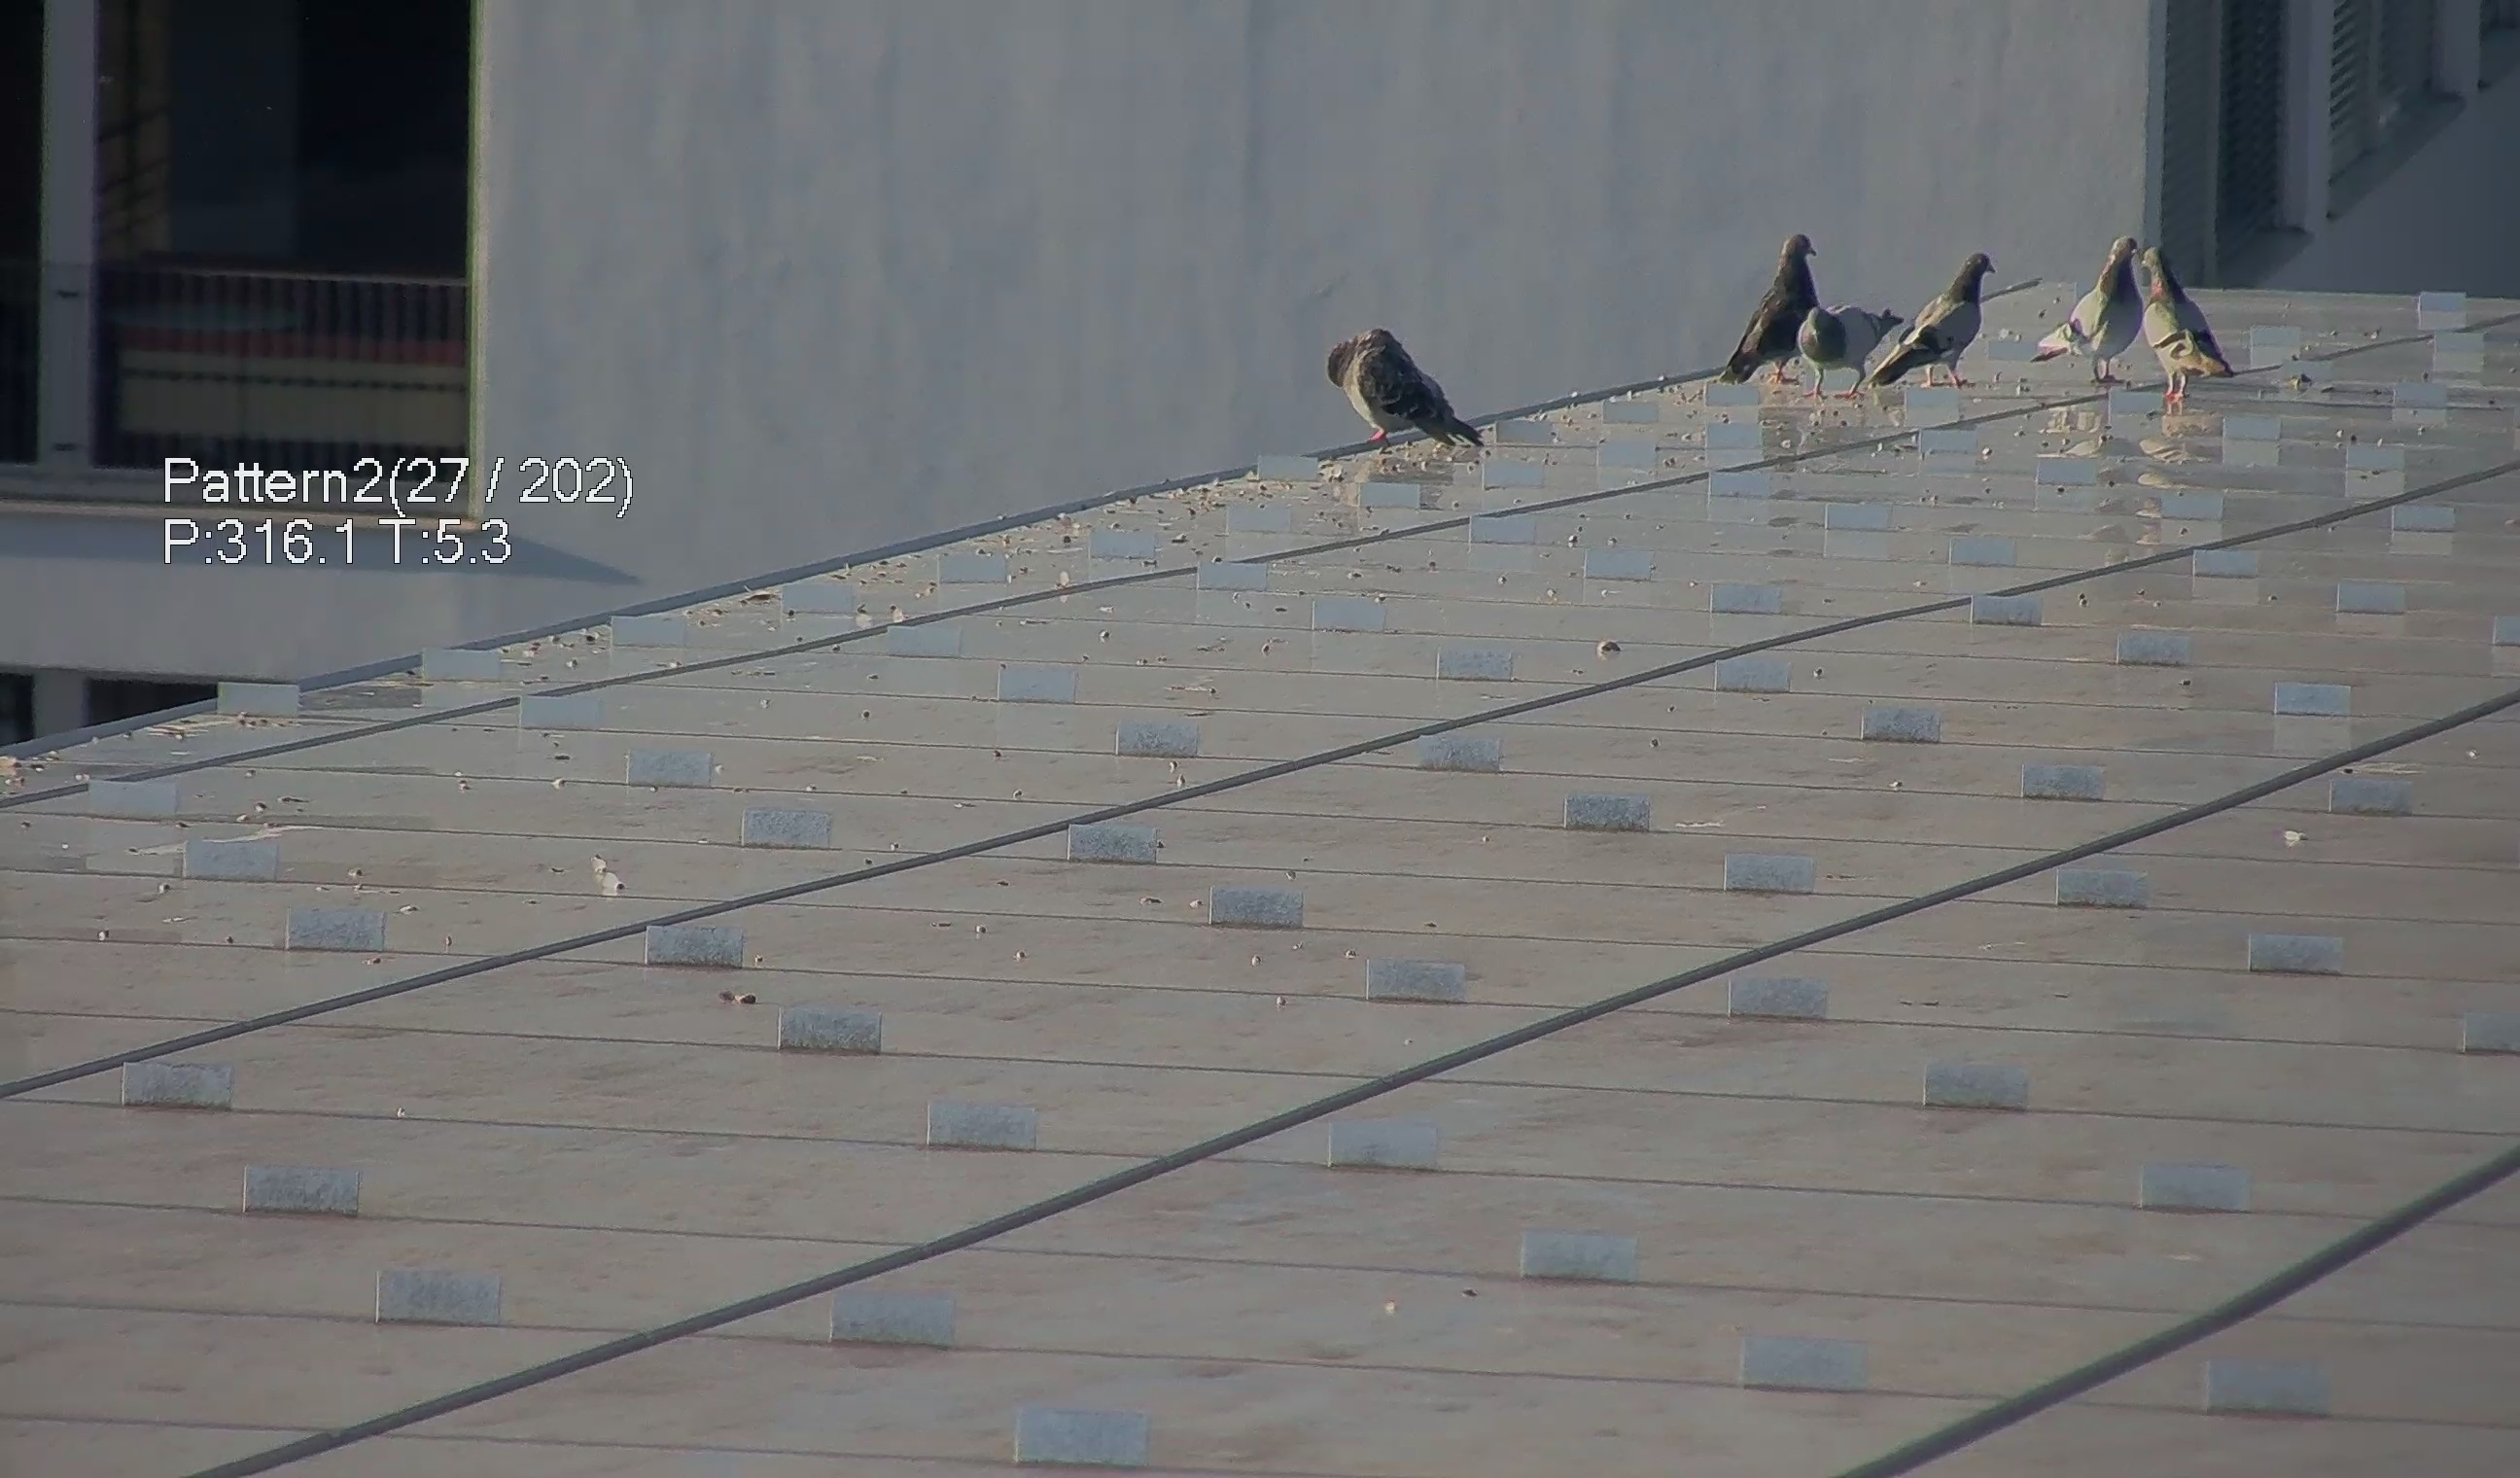Pigeon: (1725, 218, 1875, 392), (1319, 317, 1500, 456), (2119, 236, 2247, 405), (1875, 243, 2001, 403), (2028, 230, 2147, 398), (1794, 292, 1903, 399)
